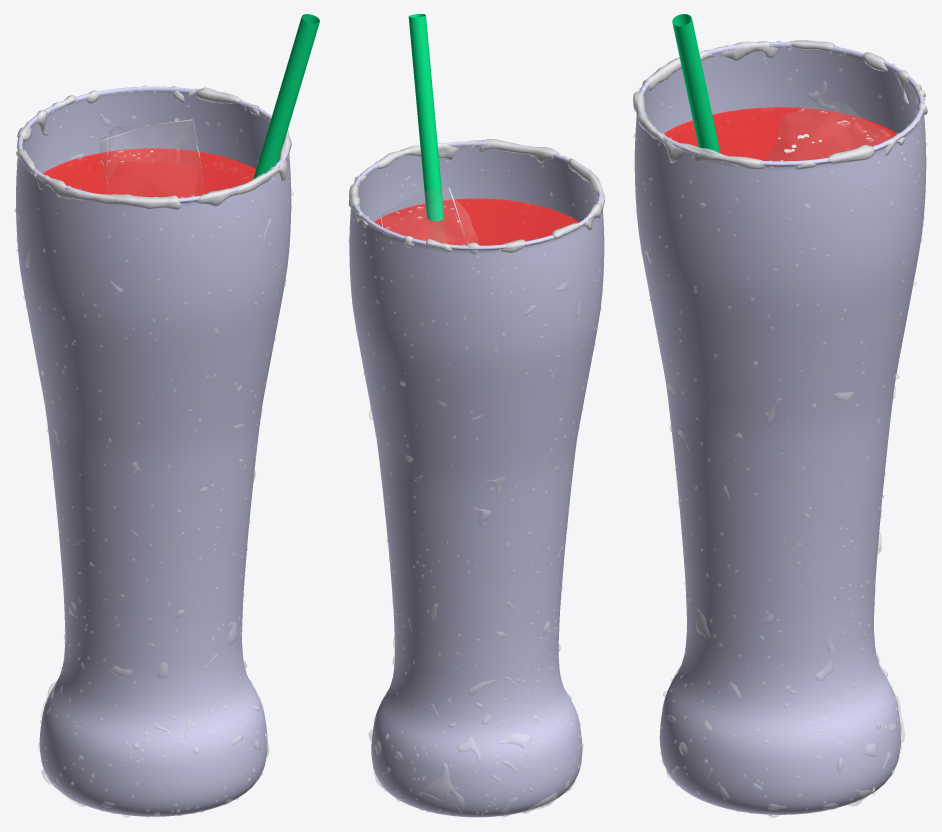
File: cocktail.glb
3 renders of one model, left to right at view 1: azimuth 30°, elevation 25°; view 2: azimuth 150°, elevation 25°; view 3: azimuth 270°, elevation 25°, orthographic. The views are drawn at different scales.
Visible parts, largest first — view 1: GLASS, LIQUID, DROPS_SUPERIOR, ICE_CUBES, STRAW, DROPS2, DROPS; view 2: GLASS, LIQUID, DROPS2, STRAW, ICE_CUBES, DROPS_SUPERIOR, DROPS; view 3: GLASS, LIQUID, DROPS_SUPERIOR, ICE_CUBES, DROPS2, STRAW, DROPS.
Boxes of the visible parts, x1,y1,x2,y2 form: GLASS: [16, 86, 291, 816]; LIQUID: [42, 148, 255, 198]; DROPS_SUPERIOR: [16, 86, 291, 209]; ICE_CUBES: [100, 118, 202, 193]; STRAW: [253, 14, 319, 179]; DROPS2: [14, 92, 293, 817]; DROPS: [16, 85, 291, 817]; GLASS: [349, 141, 604, 817]; LIQUID: [374, 198, 578, 245]; DROPS2: [349, 170, 603, 817]; STRAW: [408, 14, 444, 221]; ICE_CUBES: [381, 187, 478, 244]; DROPS_SUPERIOR: [348, 139, 604, 254]; DROPS: [348, 141, 602, 815]; GLASS: [634, 41, 926, 814]; LIQUID: [663, 107, 897, 161]; DROPS_SUPERIOR: [633, 40, 927, 169]; ICE_CUBES: [767, 102, 891, 160]; DROPS2: [641, 81, 927, 817]; STRAW: [672, 14, 720, 152]; DROPS: [634, 41, 925, 815].
Bounding box in the file's own units: 0.1143 × 0.3499 × 0.1148.
